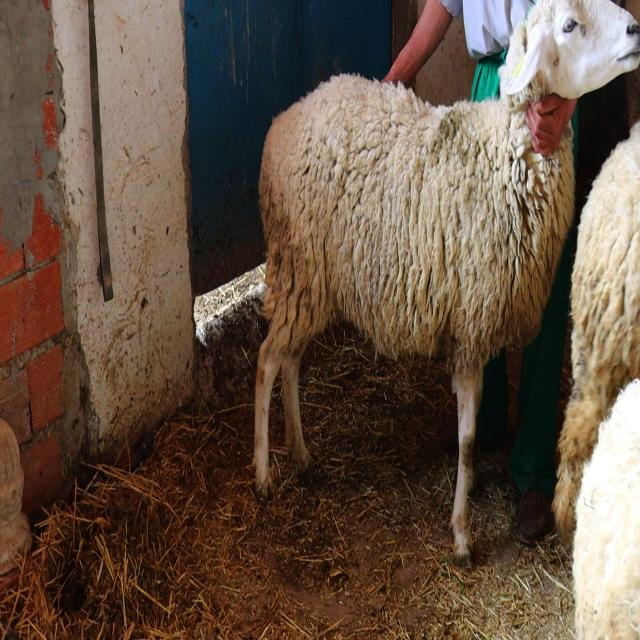Score_5: (253, 0, 640, 559)
